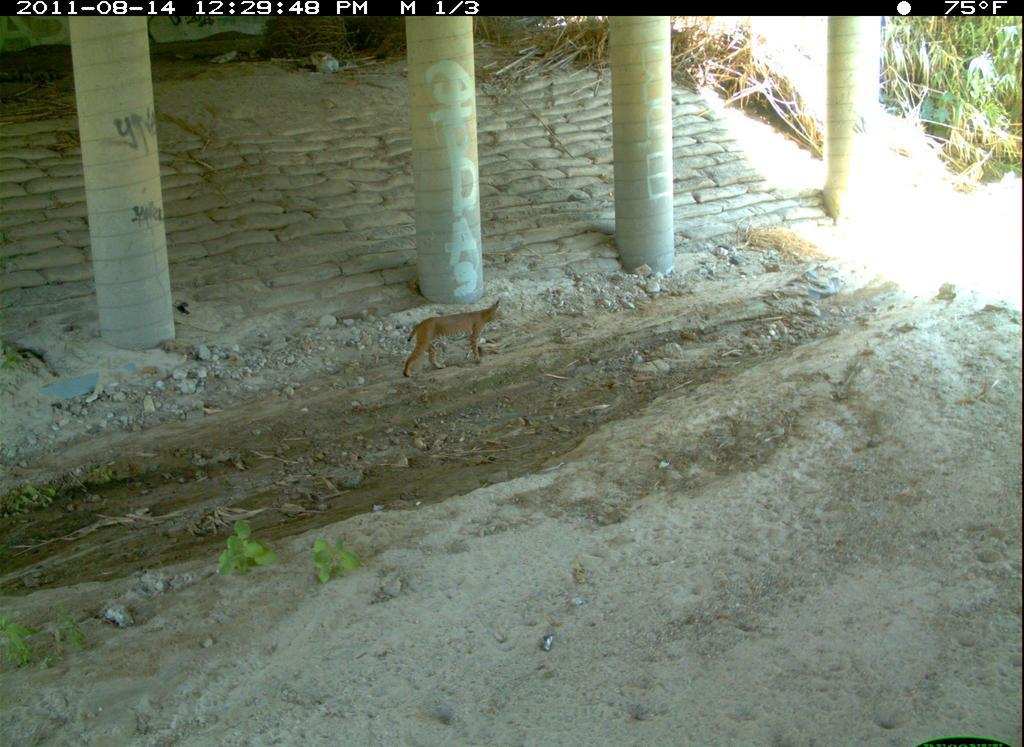bobcat: (798, 588, 1024, 747)
